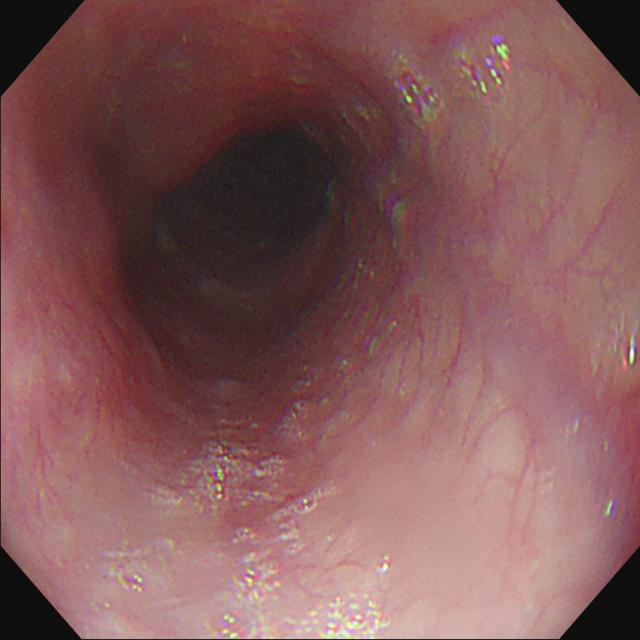E: (161, 133, 334, 283)
